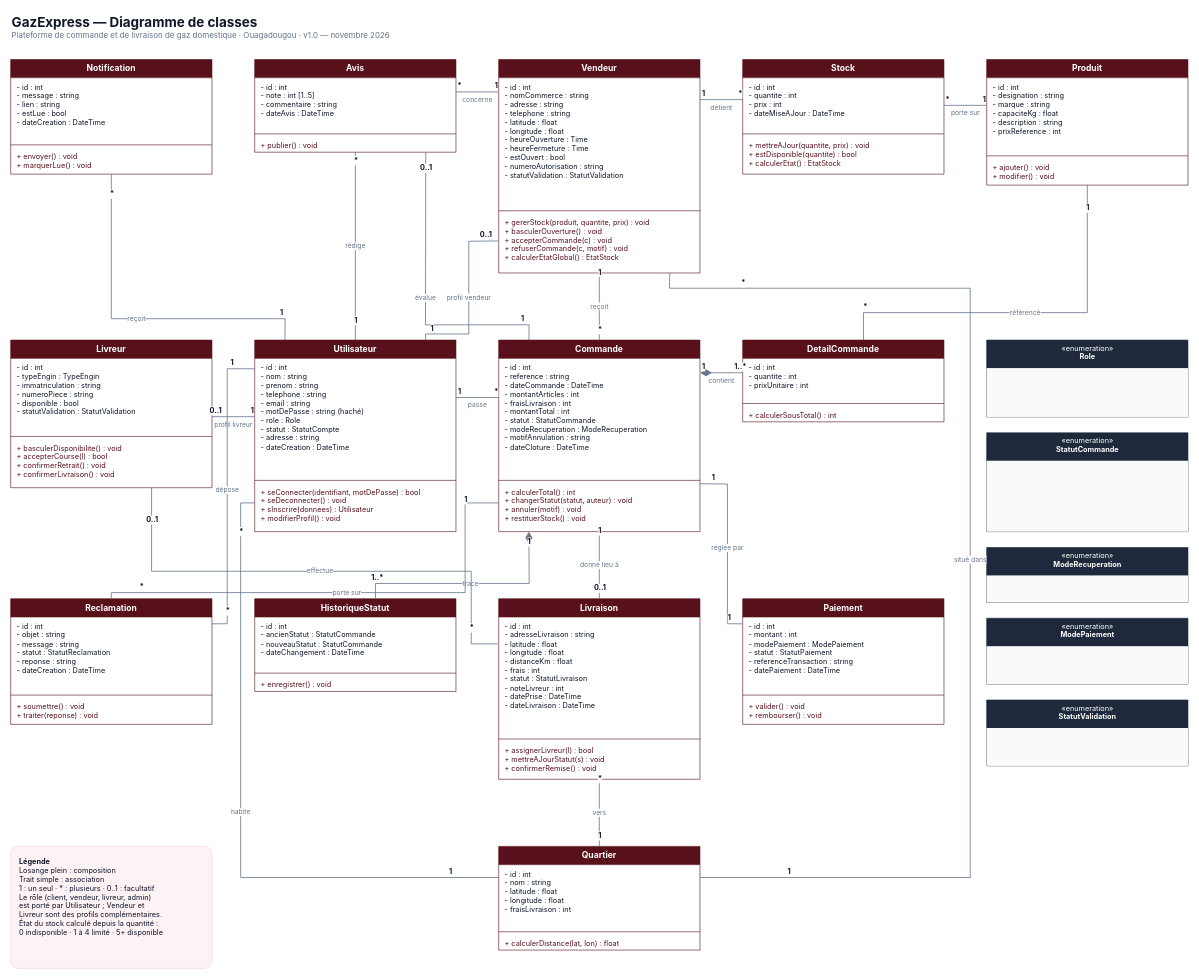
The diagram is 1199 pixels wide and 979 high, and some of its shapes have lost their labels. Here are the shapes that lost their labels. From the top down, the centre of each, then its label:
(x=1087, y=392): client vendeur livreur admin
(x=1087, y=496): en_attente acceptee en_preparation en_livraison livree annulee
(x=1087, y=588): livraison retrait
(x=1087, y=665): especes orange_money moov_money
(x=1087, y=747): en_attente valide refuse
